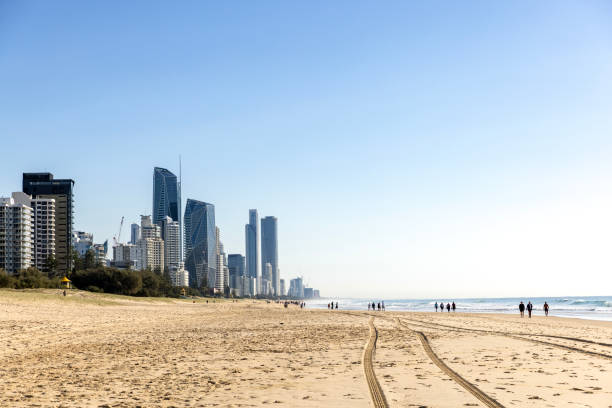vehicle_track: (397, 319, 503, 407), (402, 318, 611, 359), (363, 316, 388, 407), (505, 332, 611, 346)
